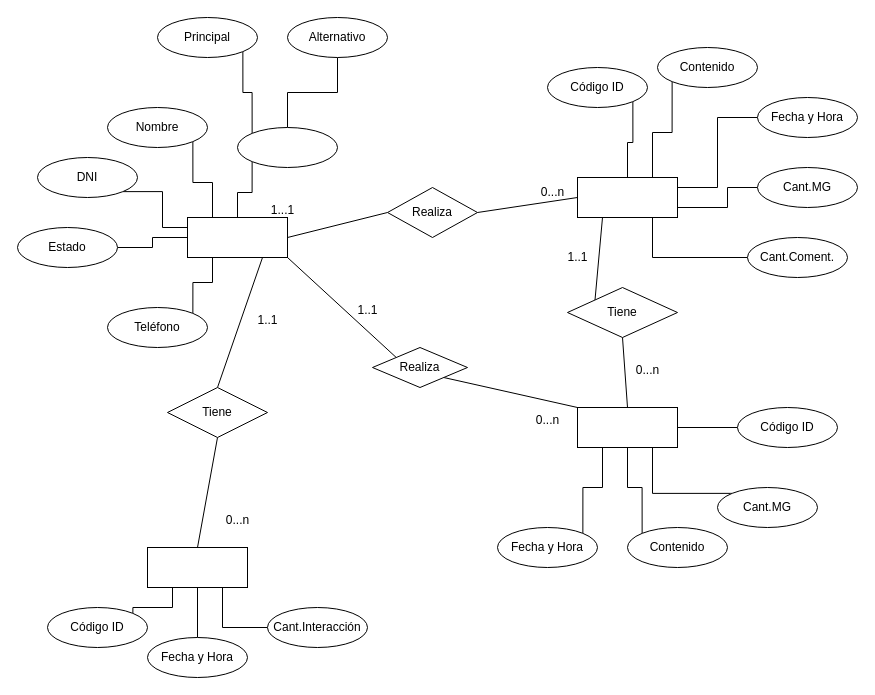
This 875x695 diagram has some shape labels left out. The shapes that lost their labels are listed below. From the top down, each one's box as (x1, y1, x2, y2) in pixels, then its label:
(236, 126, 338, 168): Correo
(576, 176, 678, 218): Publicación
(186, 216, 288, 258): Persona
(576, 406, 678, 448): Comentario
(146, 546, 248, 588): Amigo
